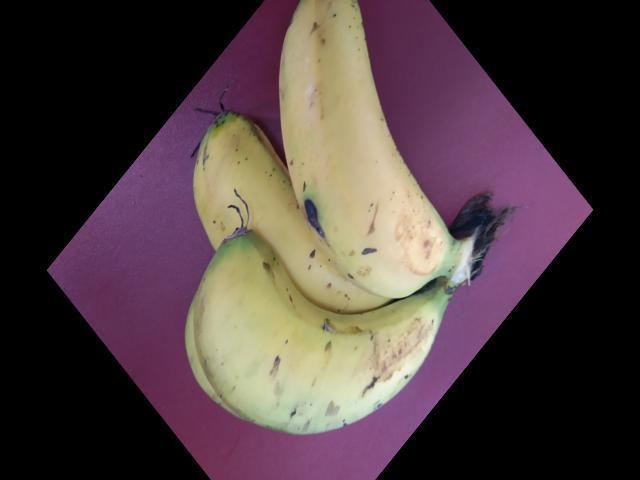ripe: (153, 232, 482, 458), (275, 0, 449, 283), (175, 113, 311, 285)
